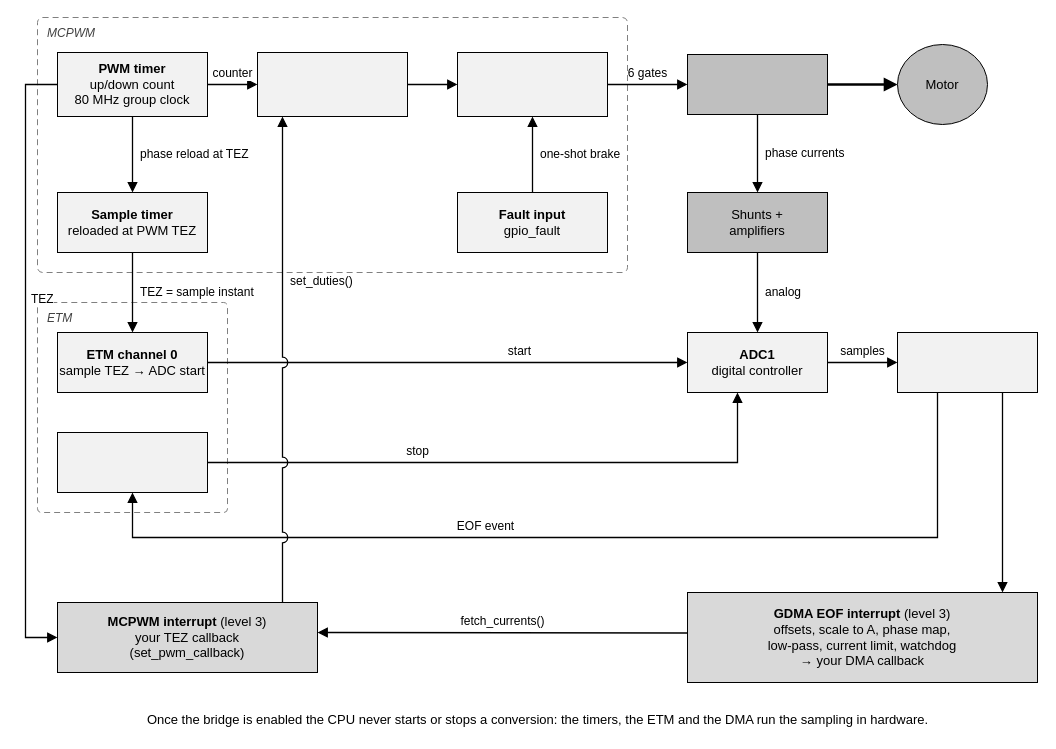
The diagram is 1056 pixels wide and 749 high, and some of its shapes have lost their labels. Each missing label, with the centre of its shape:
"3 operators compare = duty · peak" belongs at pixel 332 84.
"Dead-time units high + low side per leg" belongs at pixel 532 84.
"ETM channel 1 DMA EOF → ADC stop" belongs at pixel 132 462.
"GDMA RX ch 2 → driver buffer" belongs at pixel 967 362.
"Three-phase bridge" belongs at pixel 757 84.
